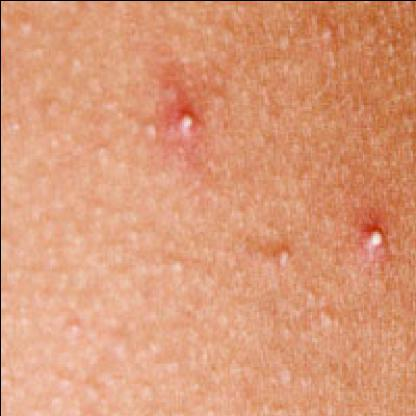Fire ant: (166, 100, 206, 142), (356, 218, 393, 258), (262, 242, 300, 272)
